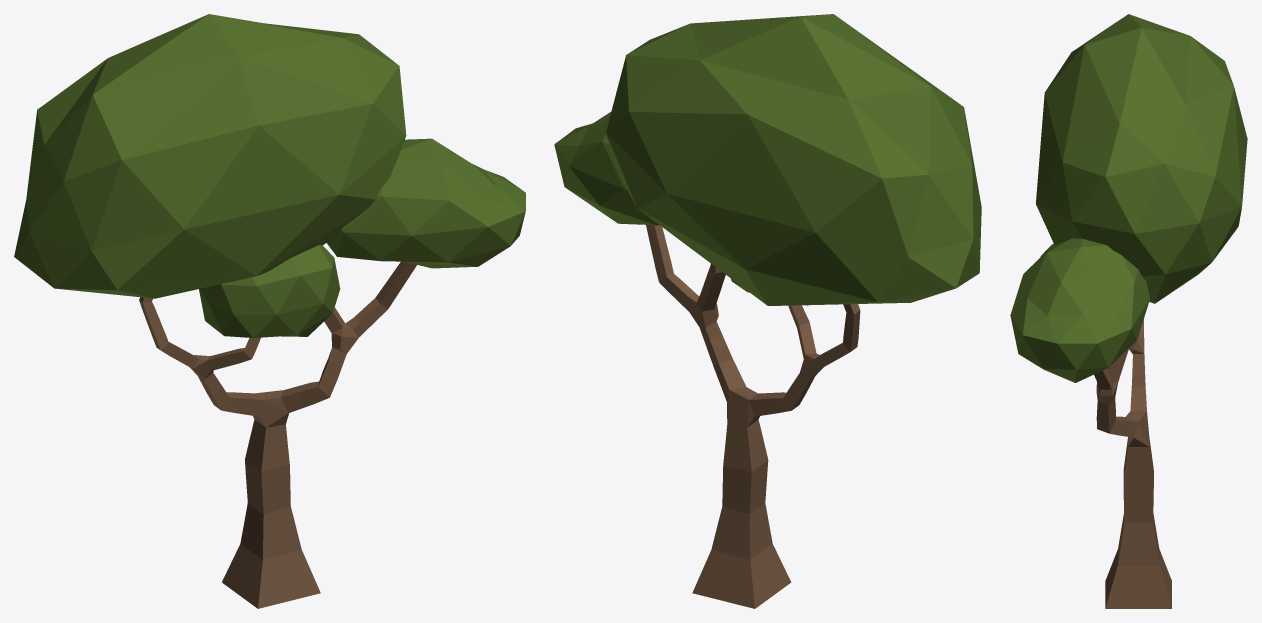
Rendered from AppleTree3.fbx.
3 renders of one model, left to right at view 1: azimuth 30°, elevation 25°; view 2: azimuth 150°, elevation 25°; view 3: azimuth 270°, elevation 25°, orthographic. The views are drawn at different scales.
Parts seen in each view (by area): view 1: AppleTree3Foliage, AppleTree3; view 2: AppleTree3Foliage, AppleTree3; view 3: AppleTree3Foliage, AppleTree3.
Boxes of the visible parts, x1,y1,x2,y2 form: AppleTree3Foliage: [14, 14, 525, 337]; AppleTree3: [139, 261, 416, 608]; AppleTree3Foliage: [554, 14, 981, 305]; AppleTree3: [646, 225, 860, 608]; AppleTree3Foliage: [1010, 14, 1247, 382]; AppleTree3: [1094, 319, 1171, 608].
Bounding box in the file's own units: 5.03 × 6.31 × 2.51.
